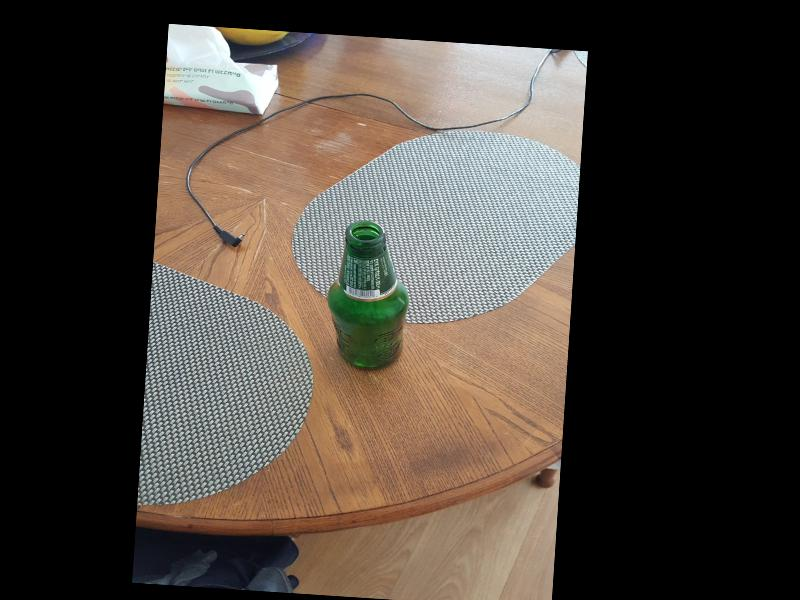Beer: (325, 217, 413, 372)
